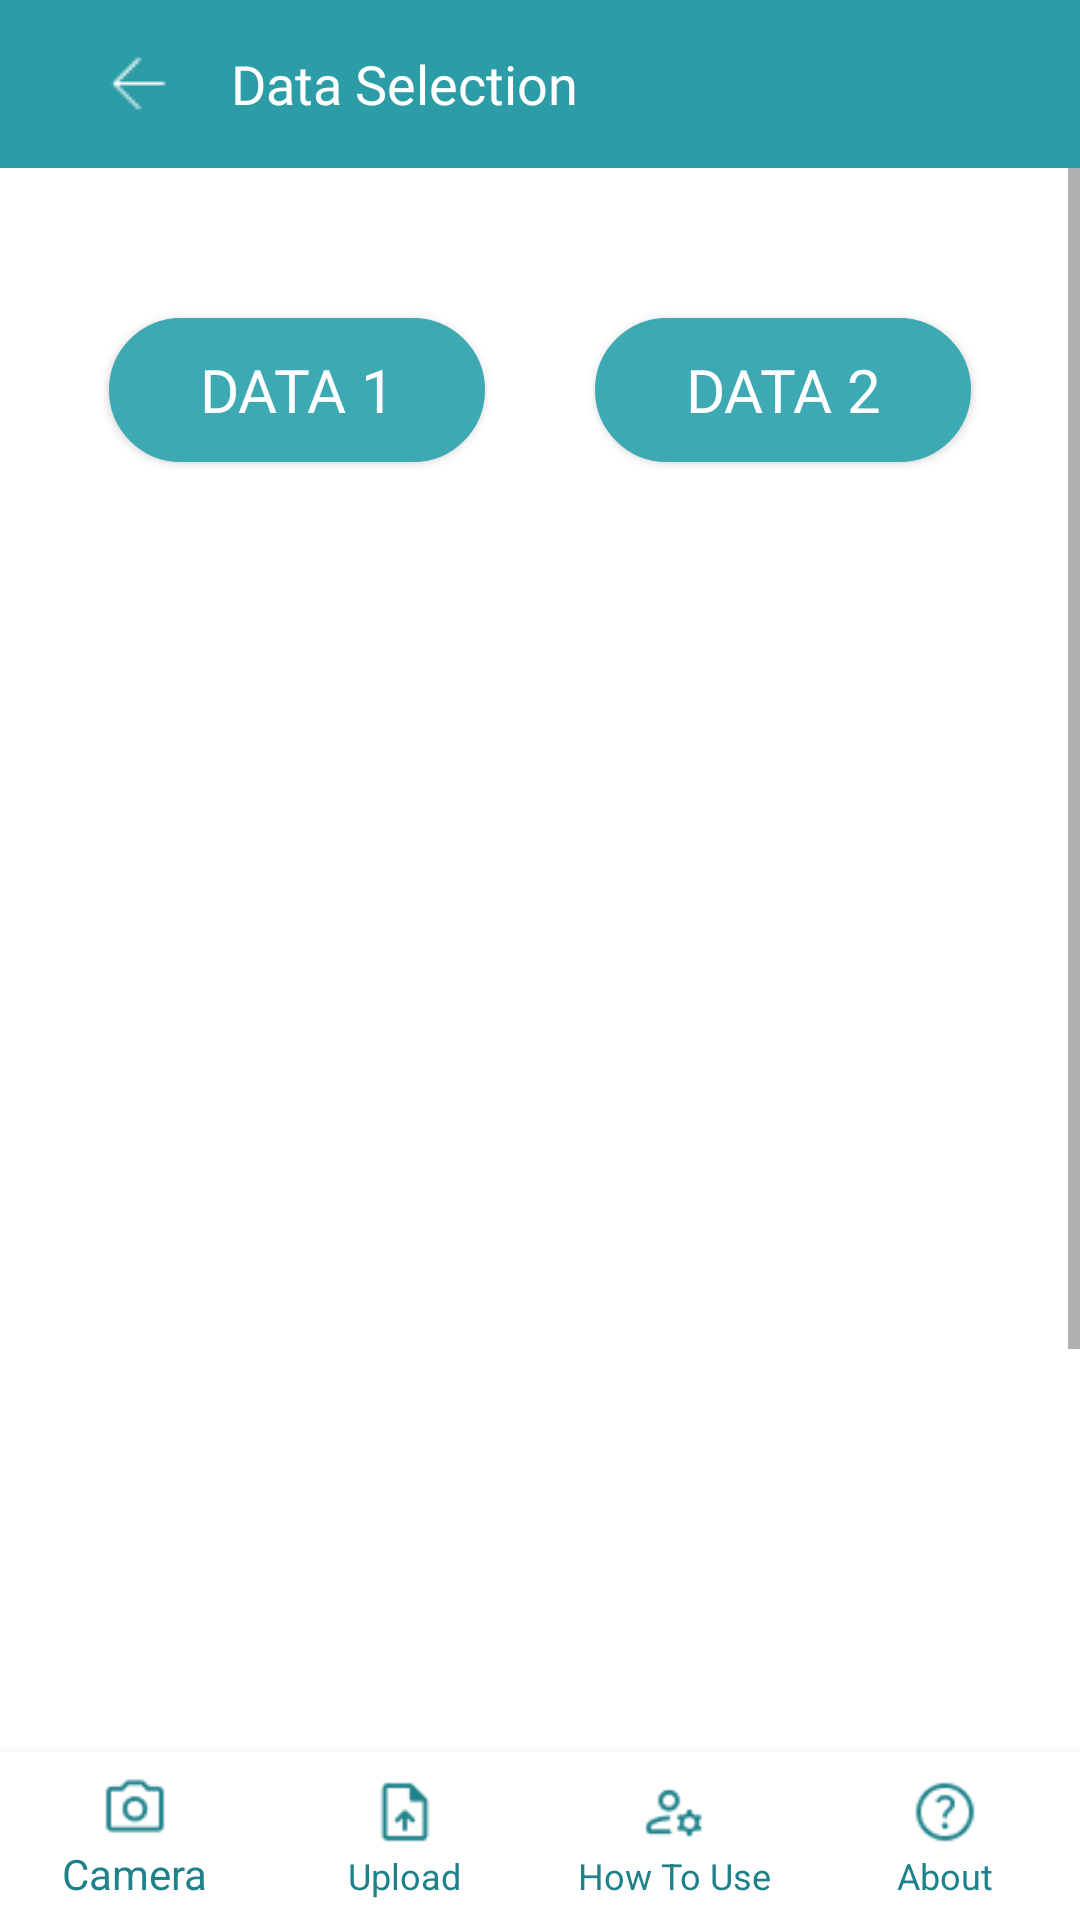

Named icons in this screenshot (1080×1920) and their centers, point (x, y):
fback: point (138, 83)
